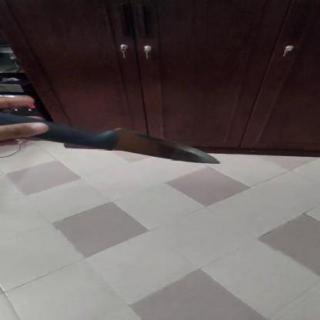knife: (82, 123, 230, 171)
